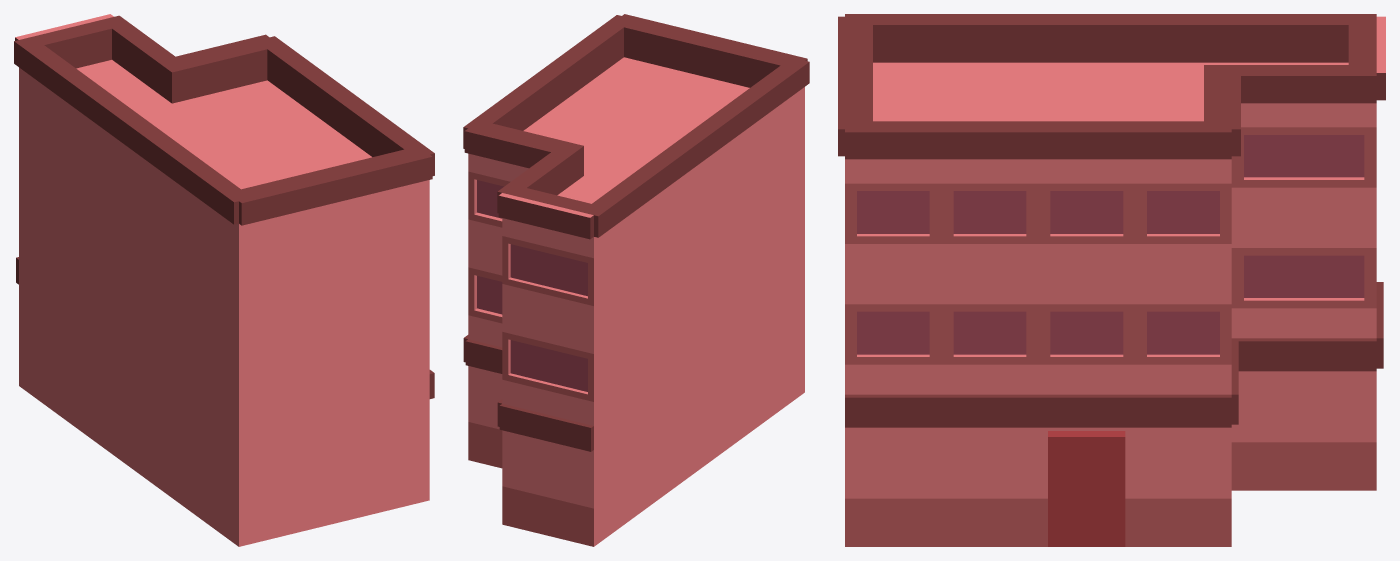
File: errordomitory1.fbx
3 views of the same model, side by side, from view 1: azimuth 30°, elevation 25°; view 2: azimuth 150°, elevation 25°; view 3: azimuth 270°, elevation 25° (orthographic). The views are drawn at different scales.
Parts seen in each view (by area): view 1: Cube; view 2: Cube; view 3: Cube.
Boxes of the visible parts, x1,y1,x2,y2 form: Cube: [14, 14, 434, 546]; Cube: [463, 14, 809, 546]; Cube: [838, 14, 1385, 546].
Bounding box in the file's own units: 216 × 346 × 412.
